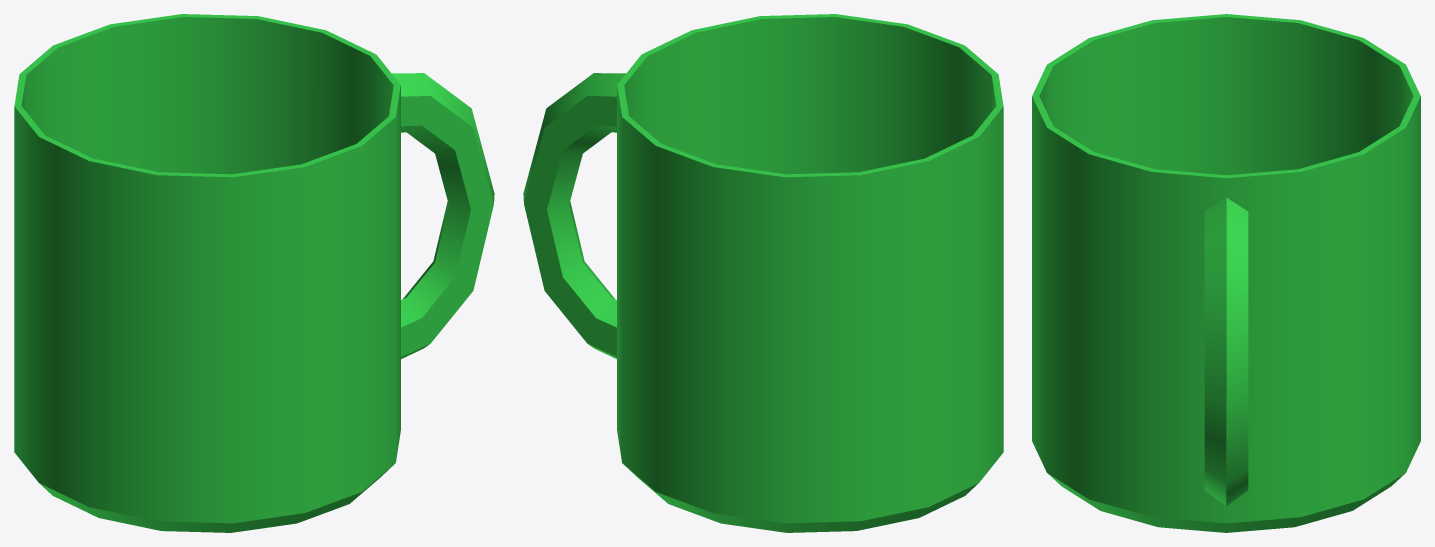
File: Taza08.fbx
3 views of the same model, side by side, from view 1: azimuth 30°, elevation 25°; view 2: azimuth 150°, elevation 25°; view 3: azimuth 270°, elevation 25° (orthographic).
Parts seen in each view (by area): view 1: Taza08; view 2: Taza08; view 3: Taza08.
Part boxes in pixels (<box>): Taza08: <box>14,14,494,532</box>; Taza08: <box>523,14,1003,532</box>; Taza08: <box>1032,14,1420,532</box>.
Bounding box in the file's own units: 10.46 × 7.95 × 7.75.
